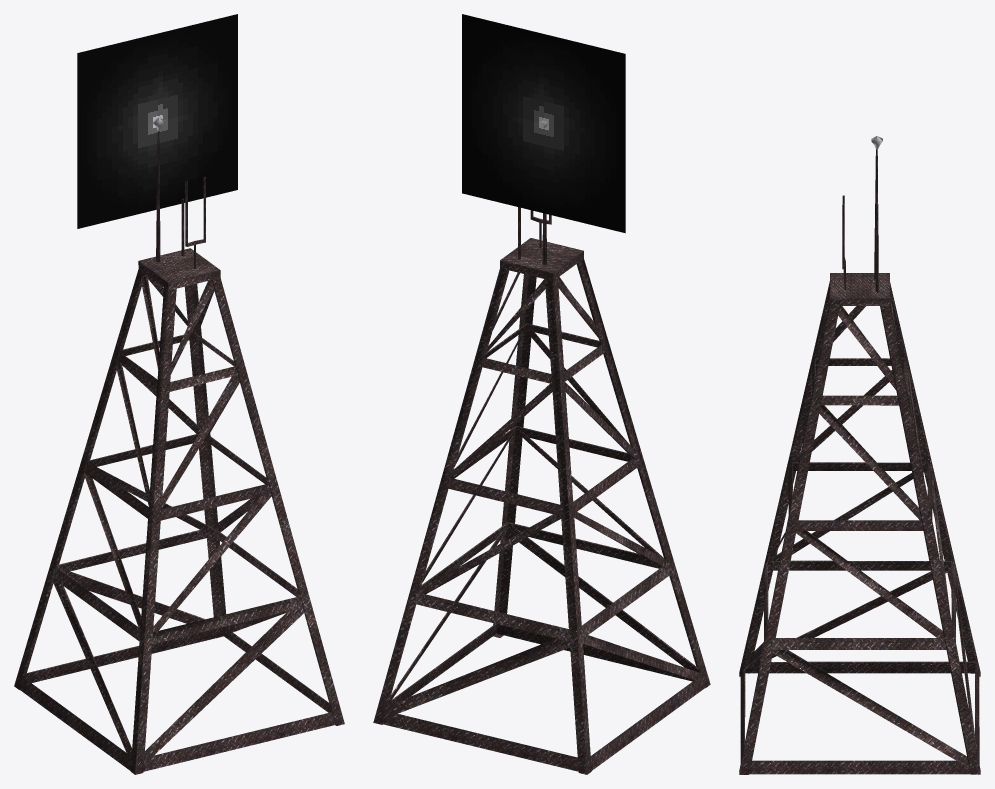
File: RdioTwr.glb
3 renders of one model, left to right at view 1: azimuth 30°, elevation 25°; view 2: azimuth 150°, elevation 25°; view 3: azimuth 270°, elevation 25°, orthographic. The views are drawn at different scales.
Visible parts, largest first — view 1: _RdioTwr; view 2: _RdioTwr; view 3: _RdioTwr.
Part boxes in pixels (box(x1,y1,x2,y2)): _RdioTwr: box(14, 14, 344, 774); _RdioTwr: box(373, 14, 710, 774); _RdioTwr: box(739, 136, 980, 774).
Size of the model in its own units: 3.5 by 10.64 by 3.5.
3 materials, 3 textured.
